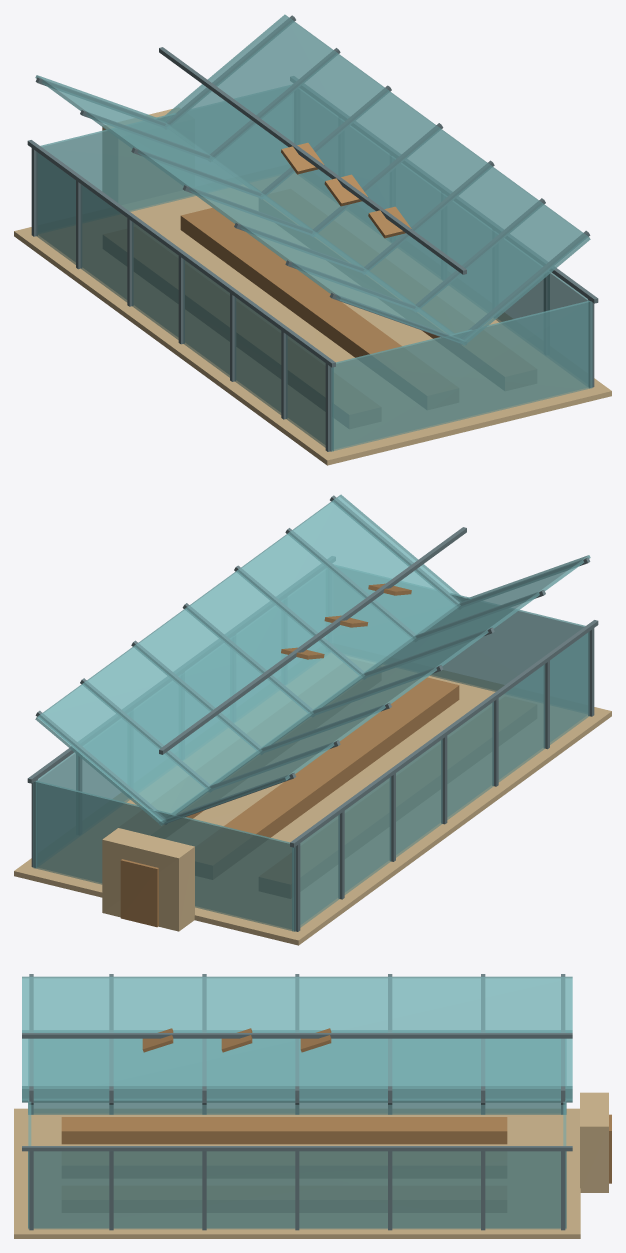
File: massive-greenhouse.source.glb
3 renders of one model, top to bottom at view 1: azimuth 30°, elevation 25°; view 2: azimuth 150°, elevation 25°; view 3: azimuth 270°, elevation 25°, orthographic. The views are drawn at different scales.
Visible parts, largest first — view 1: massive-greenhouse-roof-east-glass-mesh, massive-greenhouse-foundation-slab-mesh, massive-greenhouse-west-glass-wall-mesh, massive-greenhouse-rear-glass-wall-mesh, massive-greenhouse-roof-west-glass-mesh, massive-greenhouse-bed-0-mesh, massive-greenhouse-bed--3.5-mesh, massive-greenhouse-bed-3.5-mesh, massive-greenhouse-front-glass-wall-mesh, massive-greenhouse-vestibule-shell-mesh, massive-greenhouse-longitudinal-rail--5.9-mesh, massive-greenhouse-longitudinal-rail-0-mesh (+24 smaller); view 2: massive-greenhouse-roof-east-glass-mesh, massive-greenhouse-foundation-slab-mesh, massive-greenhouse-west-glass-wall-mesh, massive-greenhouse-front-glass-wall-mesh, massive-greenhouse-roof-west-glass-mesh, massive-greenhouse-bed-0-mesh, massive-greenhouse-bed--3.5-mesh, massive-greenhouse-bed-3.5-mesh, massive-greenhouse-rear-glass-wall-mesh, massive-greenhouse-vestibule-shell-mesh, massive-greenhouse-longitudinal-rail--5.9-mesh, massive-greenhouse-longitudinal-rail-0-mesh (+22 smaller); view 3: massive-greenhouse-roof-west-glass-mesh, massive-greenhouse-east-glass-wall-mesh, massive-greenhouse-foundation-slab-mesh, massive-greenhouse-bed--3.5-mesh, massive-greenhouse-bed-3.5-mesh, massive-greenhouse-bed-0-mesh, massive-greenhouse-roof-east-glass-mesh, massive-greenhouse-west-glass-wall-mesh, massive-greenhouse-longitudinal-rail-5.9-mesh, massive-greenhouse-longitudinal-rail-0-mesh, massive-greenhouse-vestibule-shell-mesh, massive-greenhouse-longitudinal-rail--5.9-mesh (+17 smaller).
Boxes of the visible parts, bbox=[...] form: massive-greenhouse-roof-east-glass-mesh: bbox=[164, 14, 590, 345]; massive-greenhouse-foundation-slab-mesh: bbox=[14, 173, 611, 465]; massive-greenhouse-west-glass-wall-mesh: bbox=[36, 151, 333, 451]; massive-greenhouse-rear-glass-wall-mesh: bbox=[332, 301, 589, 450]; massive-greenhouse-roof-west-glass-mesh: bbox=[35, 75, 467, 345]; massive-greenhouse-bed-0-mesh: bbox=[180, 208, 458, 409]; massive-greenhouse-bed--3.5-mesh: bbox=[103, 227, 380, 428]; massive-greenhouse-bed-3.5-mesh: bbox=[259, 189, 536, 390]; massive-greenhouse-front-glass-wall-mesh: bbox=[40, 113, 196, 211]; massive-greenhouse-vestibule-shell-mesh: bbox=[102, 108, 182, 204]; massive-greenhouse-longitudinal-rail--5.9-mesh: bbox=[27, 140, 335, 367]; massive-greenhouse-longitudinal-rail-0-mesh: bbox=[159, 47, 466, 274]; massive-greenhouse-roof-east-glass-mesh: bbox=[35, 494, 461, 825]; massive-greenhouse-foundation-slab-mesh: bbox=[14, 653, 611, 945]; massive-greenhouse-west-glass-wall-mesh: bbox=[292, 631, 589, 931]; massive-greenhouse-front-glass-wall-mesh: bbox=[36, 781, 293, 930]; massive-greenhouse-roof-west-glass-mesh: bbox=[159, 555, 590, 825]; massive-greenhouse-bed-0-mesh: bbox=[195, 677, 459, 879]; massive-greenhouse-bed--3.5-mesh: bbox=[259, 697, 536, 898]; massive-greenhouse-bed-3.5-mesh: bbox=[119, 659, 380, 838]; massive-greenhouse-rear-glass-wall-mesh: bbox=[429, 593, 585, 691]; massive-greenhouse-vestibule-shell-mesh: bbox=[102, 828, 194, 931]; massive-greenhouse-longitudinal-rail--5.9-mesh: bbox=[290, 620, 598, 847]; massive-greenhouse-longitudinal-rail-0-mesh: bbox=[159, 527, 466, 754]; massive-greenhouse-roof-west-glass-mesh: bbox=[22, 976, 572, 1102]; massive-greenhouse-east-glass-wall-mesh: bbox=[28, 1151, 566, 1229]; massive-greenhouse-foundation-slab-mesh: bbox=[14, 1108, 580, 1238]; massive-greenhouse-bed--3.5-mesh: bbox=[61, 1117, 507, 1144]; massive-greenhouse-bed-3.5-mesh: bbox=[62, 1186, 506, 1212]; massive-greenhouse-bed-0-mesh: bbox=[62, 1152, 506, 1177]; massive-greenhouse-roof-east-glass-mesh: bbox=[22, 1086, 572, 1101]; massive-greenhouse-west-glass-wall-mesh: bbox=[28, 1102, 566, 1114]; massive-greenhouse-longitudinal-rail-5.9-mesh: bbox=[22, 1146, 572, 1151]; massive-greenhouse-longitudinal-rail-0-mesh: bbox=[22, 1033, 572, 1038]; massive-greenhouse-vestibule-shell-mesh: bbox=[580, 1092, 608, 1192]; massive-greenhouse-longitudinal-rail--5.9-mesh: bbox=[22, 1030, 571, 1032].
Size of the model in its own units: 12.8 by 6.94 by 25.75.
